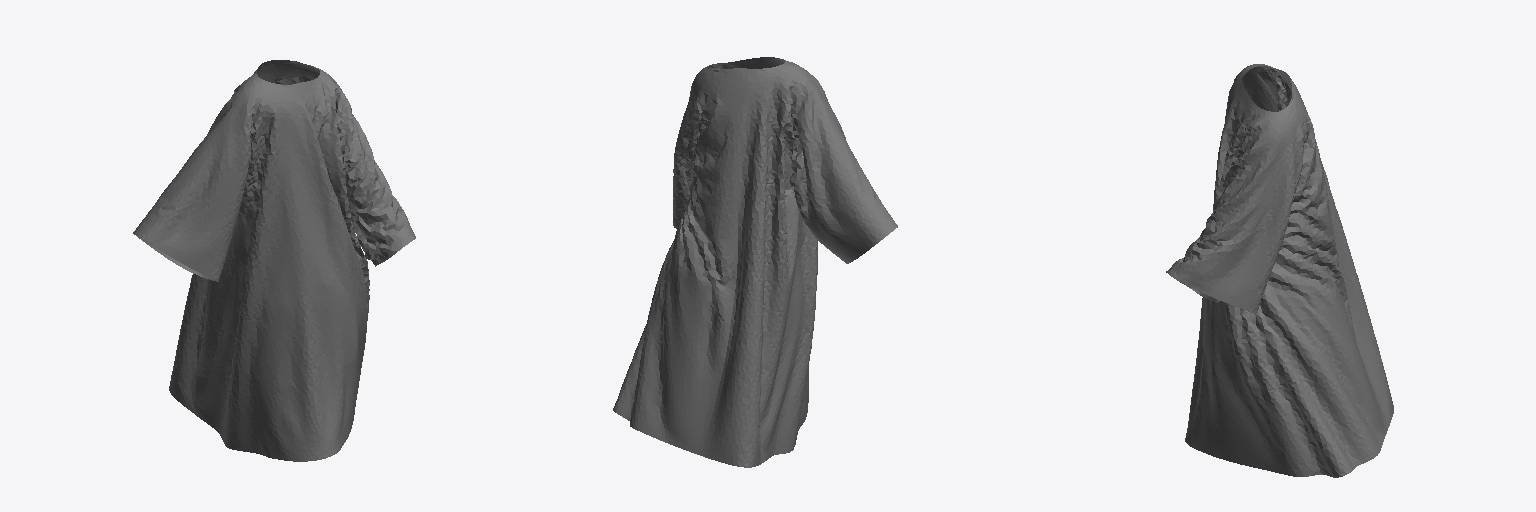
Rendered from cloth4_2.obj.
The picture shows the model from 3 angles: view 1: azimuth 30°, elevation 25°; view 2: azimuth 150°, elevation 25°; view 3: azimuth 270°, elevation 25°; orthographic projection.
Visible parts, largest first — view 1: cloth4_2:Mesh1; view 2: cloth4_2:Mesh1; view 3: cloth4_2:Mesh1.
Part boxes in pixels (x1,y1,x2,y2): cloth4_2:Mesh1: (133, 60, 415, 461); cloth4_2:Mesh1: (613, 57, 897, 467); cloth4_2:Mesh1: (1166, 64, 1393, 477).
Size of the model in its own units: 3.15 by 4.59 by 2.54.